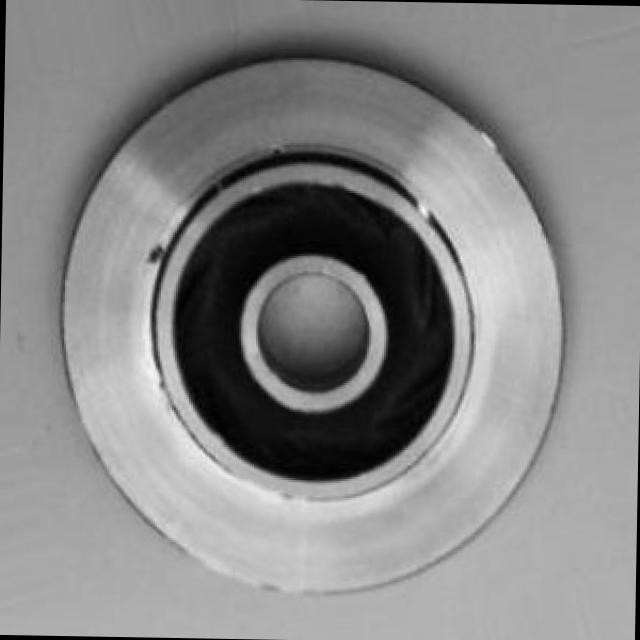Defect: (144, 236, 171, 264)
